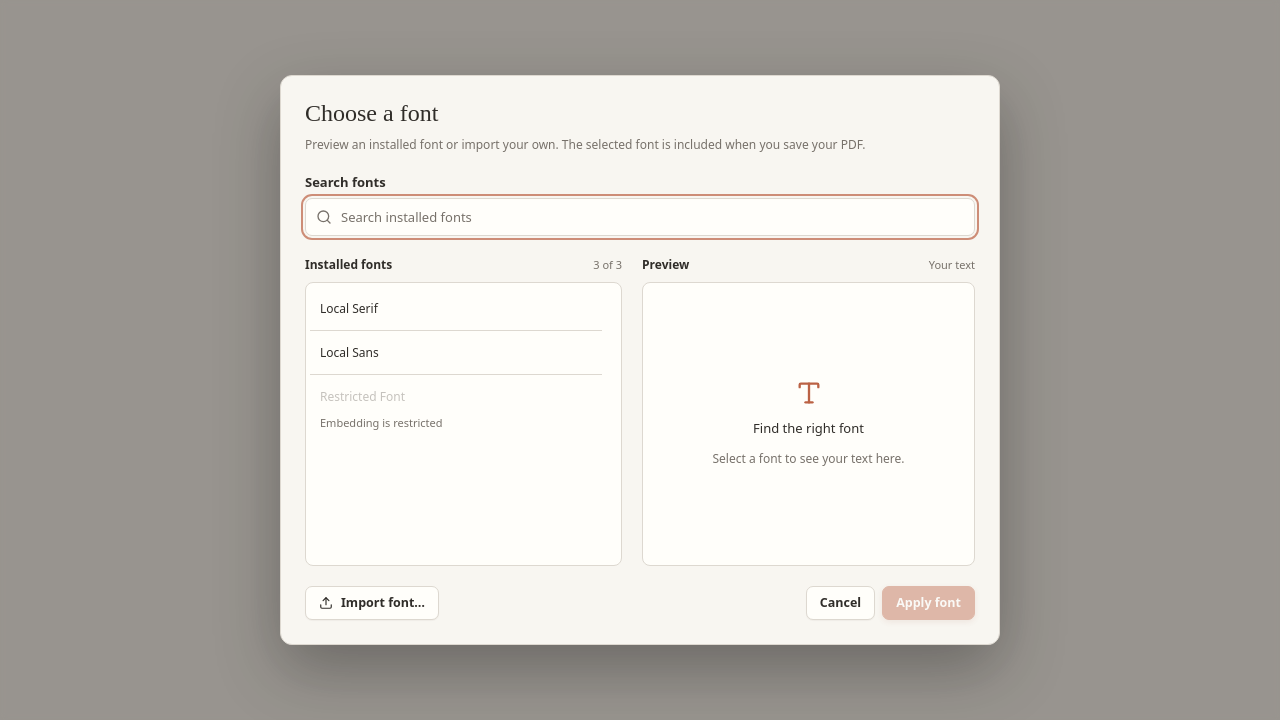
Test: searches installed fonts and explains unsupported choices
Expected: the text "Local Serif" is shown, [320,300,378,317]
Expected: the button "Restricted Font" is disabled, [310,378,602,415]
Type "local" into the search field labelled "Search fonts" at {"x": 640, "y": 217}, box [305,198,975,236]
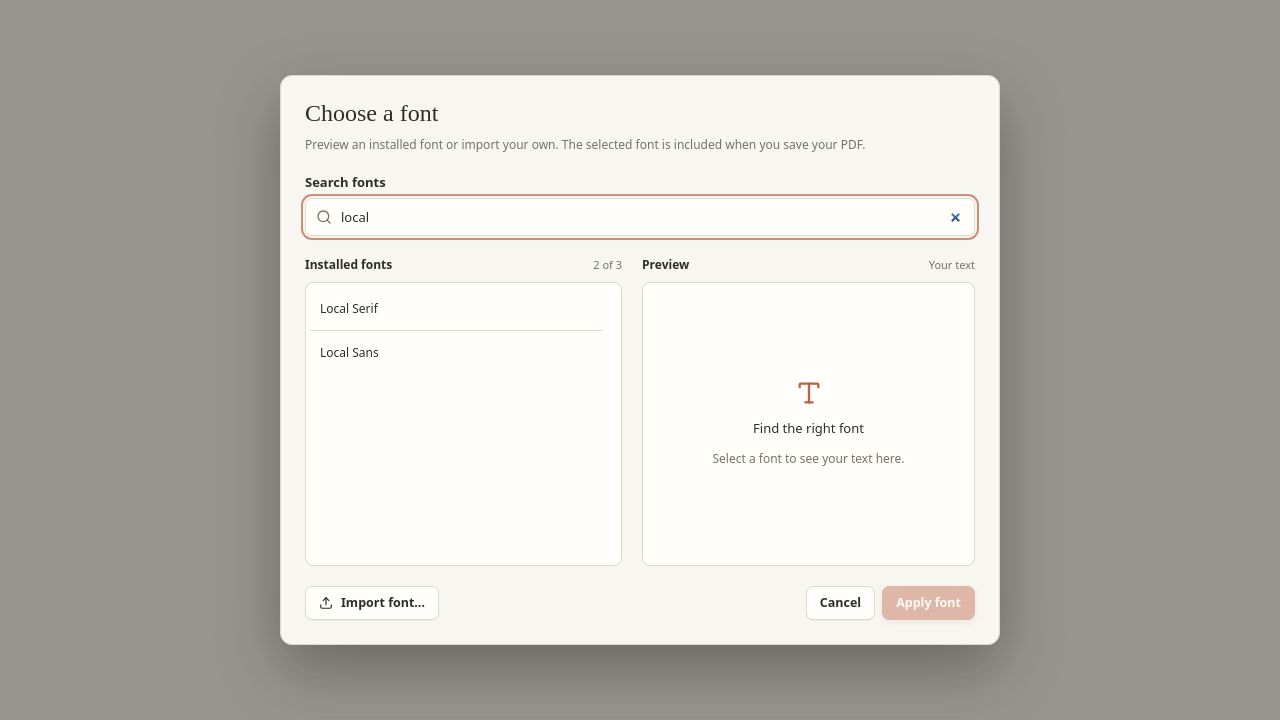
Expected: the button "Restricted Font" is gone
